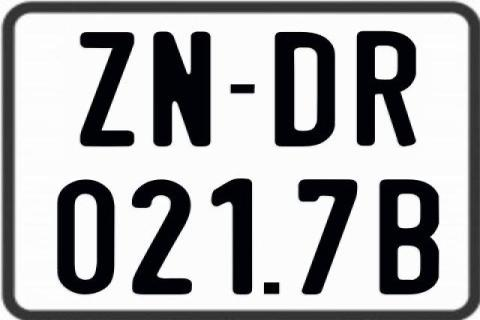0: (55, 178, 117, 298), (297, 179, 359, 295), (131, 179, 191, 297), (210, 178, 255, 296)
B: (377, 178, 441, 298)
D: (275, 31, 337, 146)
N: (153, 29, 214, 149)
R: (356, 29, 420, 150)
Z: (80, 32, 136, 151)
